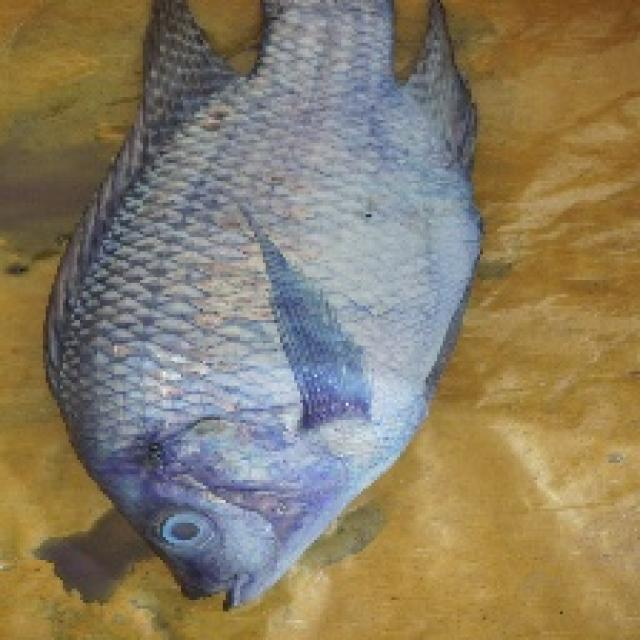Non-Fresh: (79, 115, 416, 485), (146, 494, 234, 564)
